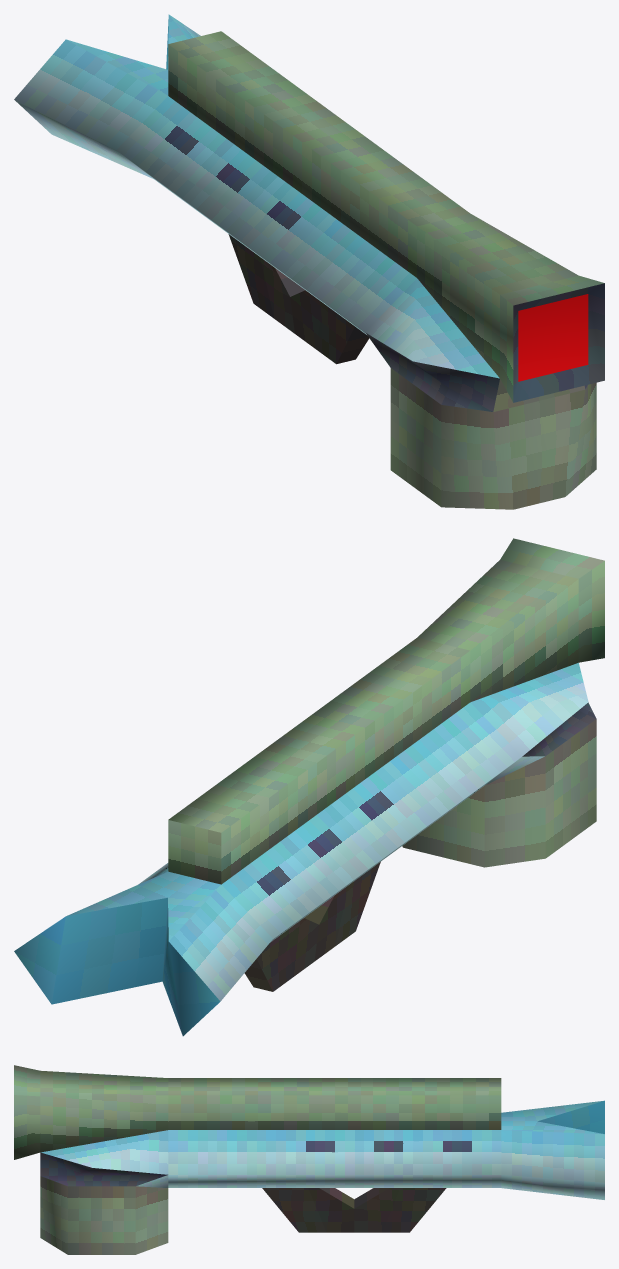
The model's file is wep_rail.glb.
3 renders of one model, top to bottom at view 1: azimuth 30°, elevation 25°; view 2: azimuth 150°, elevation 25°; view 3: azimuth 270°, elevation 25°, orthographic. The views are drawn at different scales.
Visible parts, largest first — view 1: Mesh; view 2: Mesh; view 3: Mesh.
Part boxes in pixels (x1,y1,x2,y2): Mesh: (14, 14, 604, 509); Mesh: (14, 538, 604, 1036); Mesh: (14, 1065, 604, 1254).
Size of the model in its own units: 0.1248 by 0.129 by 0.4623.
2 materials, 1 textured.
